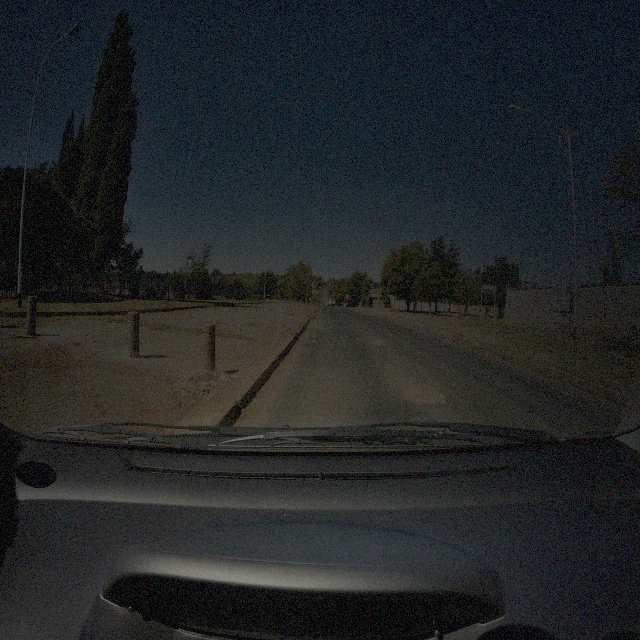pothole: (400, 382, 448, 406), (367, 338, 392, 349), (310, 324, 327, 332)
